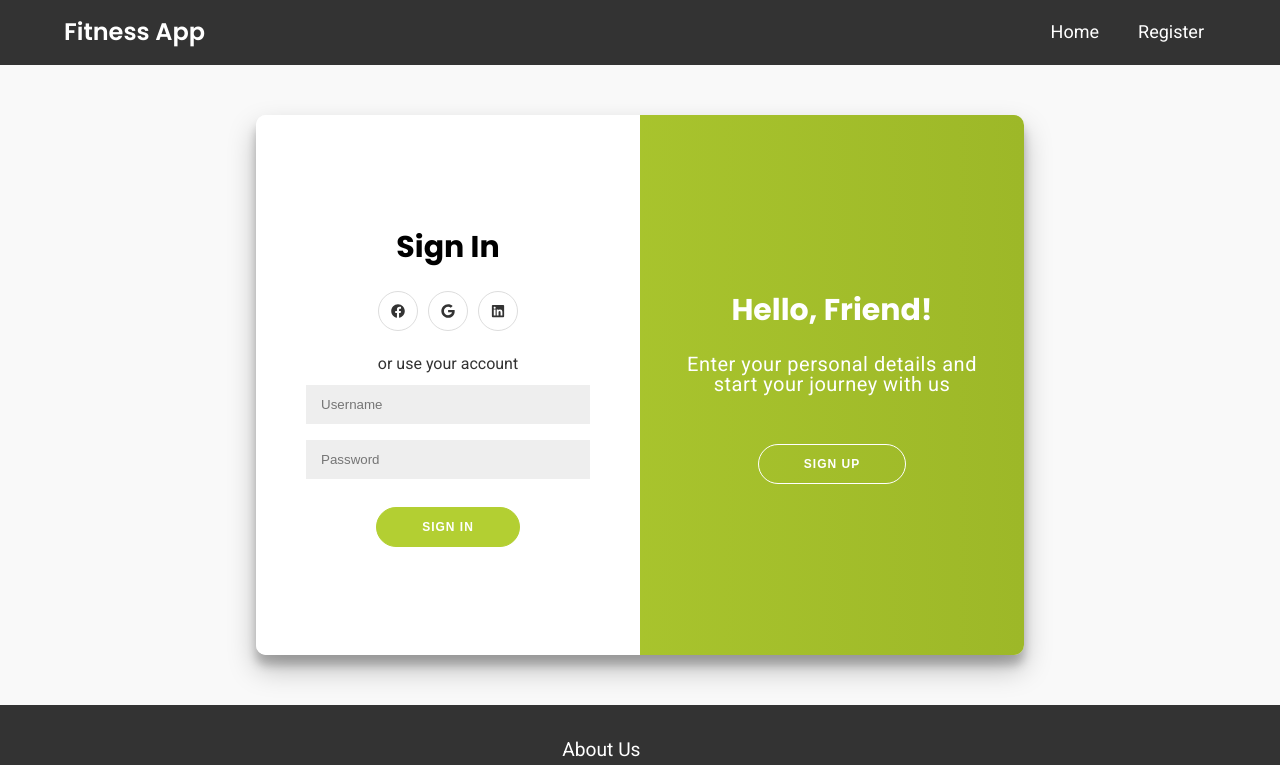
Test: AuthContainer E2E Tests › should toggle to Sign Up panel when clicking Sign Up
Click the button with test id "sign-up-button" at point(832, 464), box [758,444,906,484]
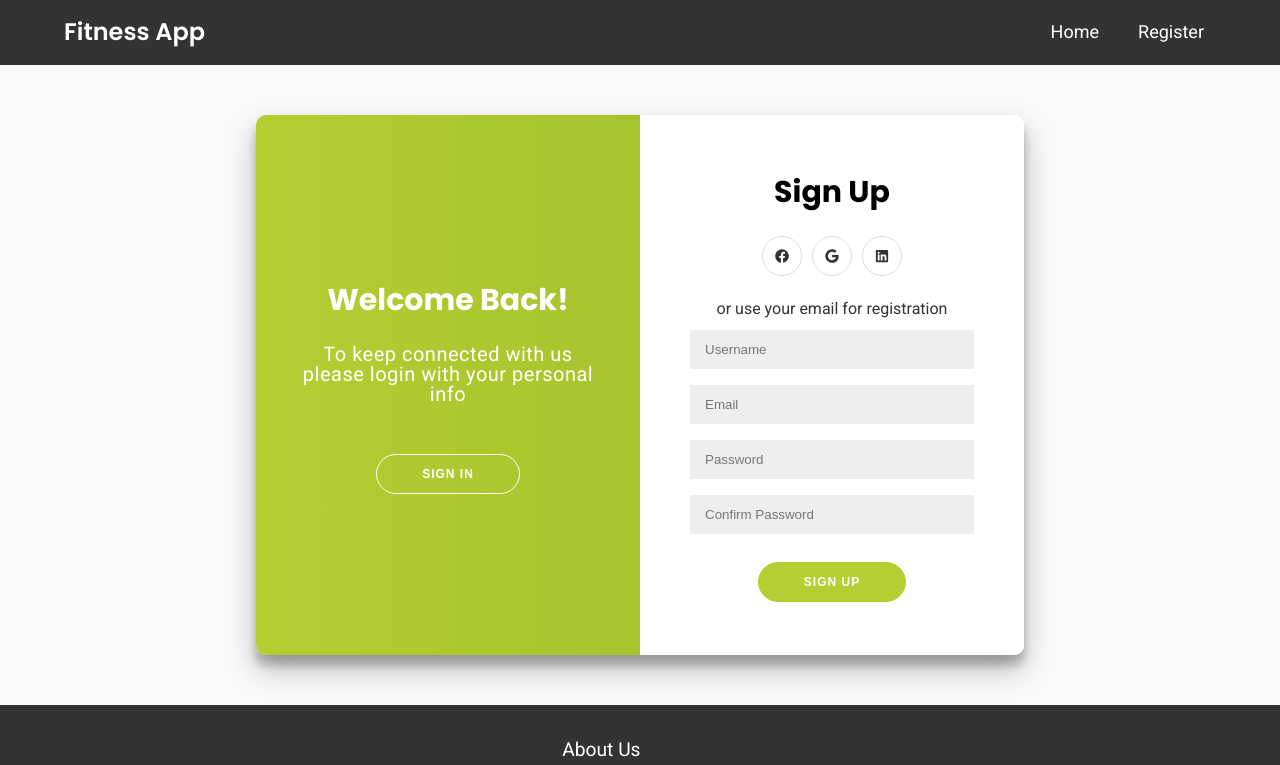
Check: the element with test id "sign-up-container" is shown, box [640,115,1024,655]
